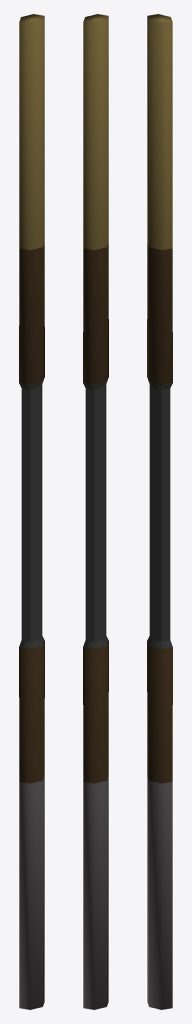
File: elemental-staff.glb
The picture shows the model from 3 angles, left to right: view 1: azimuth 30°, elevation 25°; view 2: azimuth 210°, elevation 25°; view 3: azimuth 330°, elevation 25°; orthographic projection.
Visible parts, largest first — view 1: Elemental Staff - kingdom-weapon-set; view 2: Elemental Staff - kingdom-weapon-set; view 3: Elemental Staff - kingdom-weapon-set.
Part boxes in pixels (x1,y1,x2,y2): Elemental Staff - kingdom-weapon-set: [19, 14, 44, 1009]; Elemental Staff - kingdom-weapon-set: [83, 14, 108, 1009]; Elemental Staff - kingdom-weapon-set: [147, 14, 172, 1009].
Bounding box in the file's own units: 0.0495 × 1.81 × 0.0313.
